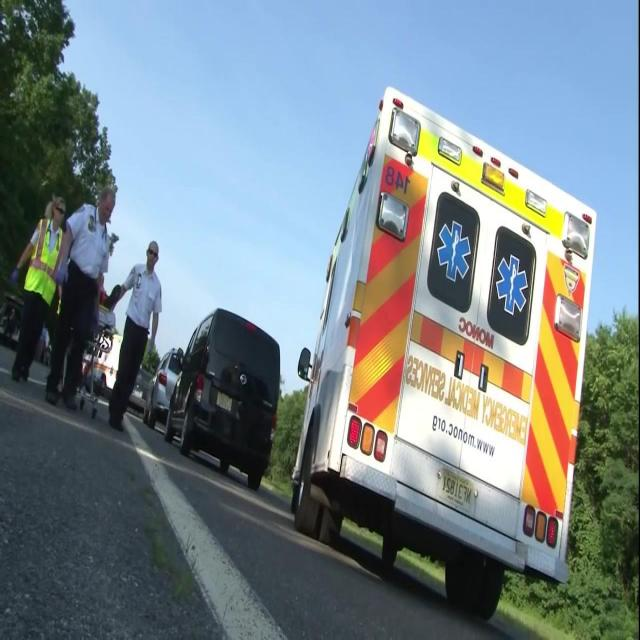Reflective-Jacket: (19, 217, 73, 319)
